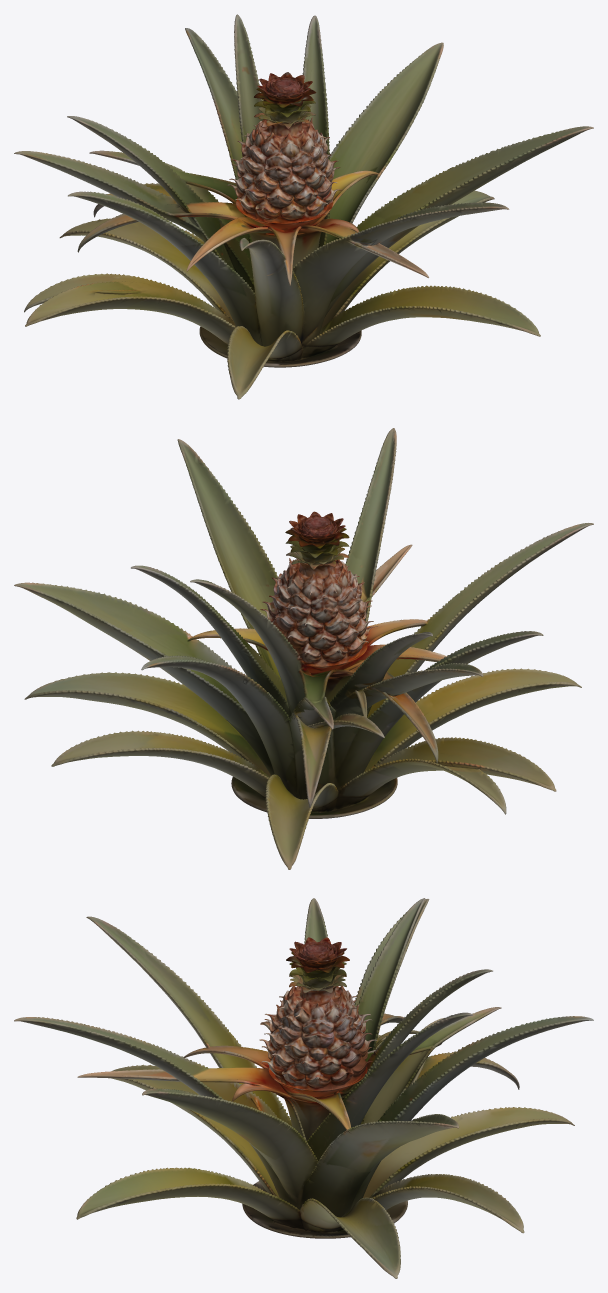
The model's file is huaebaimo-v1.glb.
The picture shows the model from 3 angles, top to bottom: view 1: azimuth 30°, elevation 25°; view 2: azimuth 150°, elevation 25°; view 3: azimuth 270°, elevation 25°; orthographic projection. The views are drawn at different scales.
Visible parts, largest first — view 1: node_0; view 2: node_0; view 3: node_0.
Boxes of the visible parts, x1,y1,x2,y2 form: node_0: (14, 14, 593, 399); node_0: (14, 428, 593, 869); node_0: (14, 898, 593, 1278).
Bounding box in the file's own units: 1.07 × 0.5622 × 1.07.
1 material, 1 textured.
